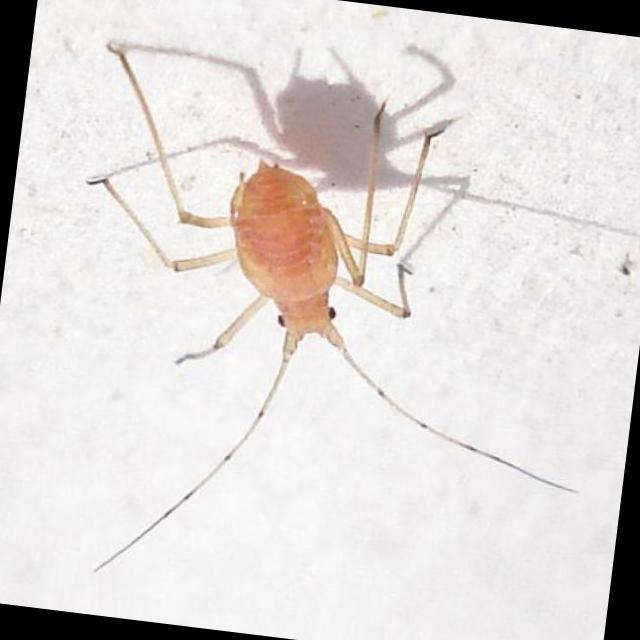Aphids: (1, 28, 610, 632)
